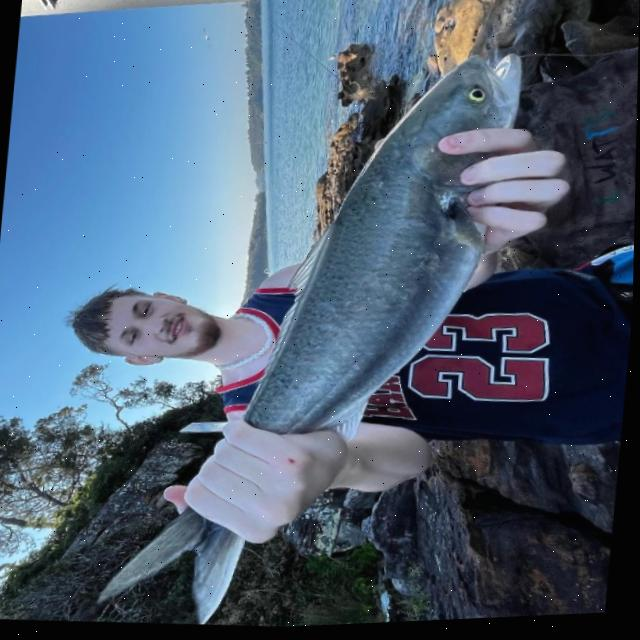Australian Salmon: (76, 24, 536, 637)
